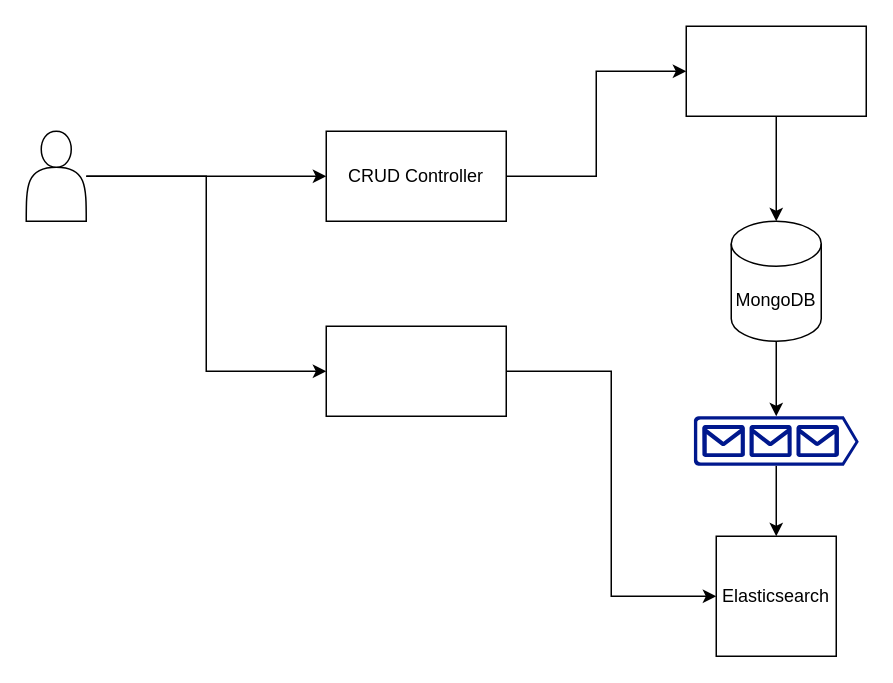
This 893x683 diagram has some shape labels left out. Each missing label, with the box of its shape:
Recipe Service: (685, 25, 866, 116)
Search Controller: (325, 325, 506, 416)
